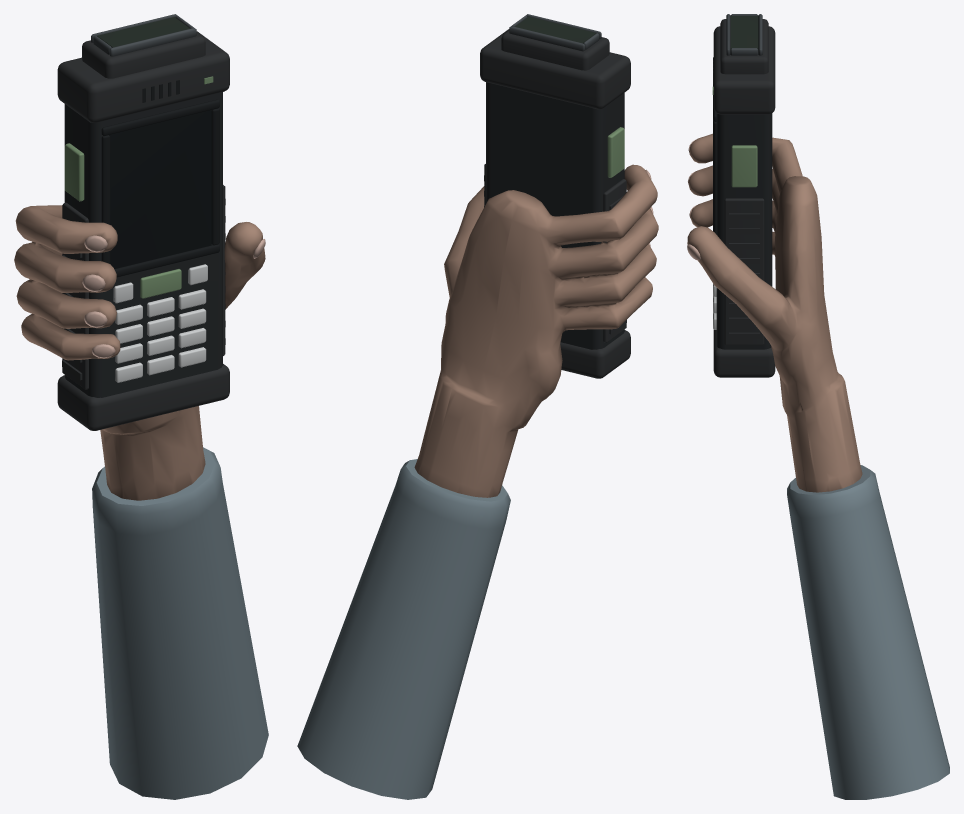
File: scanner_hand.glb
3 views of the same model, side by side, from view 1: azimuth 30°, elevation 25°; view 2: azimuth 150°, elevation 25°; view 3: azimuth 270°, elevation 25° (orthographic). The views are drawn at different scales.
Parts seen in each view (by area): view 1: SCANNER_HAND, SCANNER_BODY, SCANNER_SCREEN, SCANNER_WINDOW; view 2: SCANNER_HAND, SCANNER_BODY, SCANNER_WINDOW; view 3: SCANNER_HAND, SCANNER_BODY, SCANNER_WINDOW.
Boxes of the visible parts, bbox=[...] form: SCANNER_HAND: bbox=[14, 205, 268, 799]; SCANNER_BODY: bbox=[57, 14, 229, 430]; SCANNER_SCREEN: bbox=[109, 110, 211, 268]; SCANNER_WINDOW: bbox=[97, 17, 189, 47]; SCANNER_HAND: bbox=[297, 164, 658, 799]; SCANNER_BODY: bbox=[480, 14, 630, 378]; SCANNER_WINDOW: bbox=[515, 16, 596, 43]; SCANNER_HAND: bbox=[687, 133, 949, 799]; SCANNER_BODY: bbox=[712, 14, 775, 377]; SCANNER_WINDOW: bbox=[730, 16, 758, 48].
Bounding box in the file's own units: 0.174 × 0.4538 × 0.1516.
